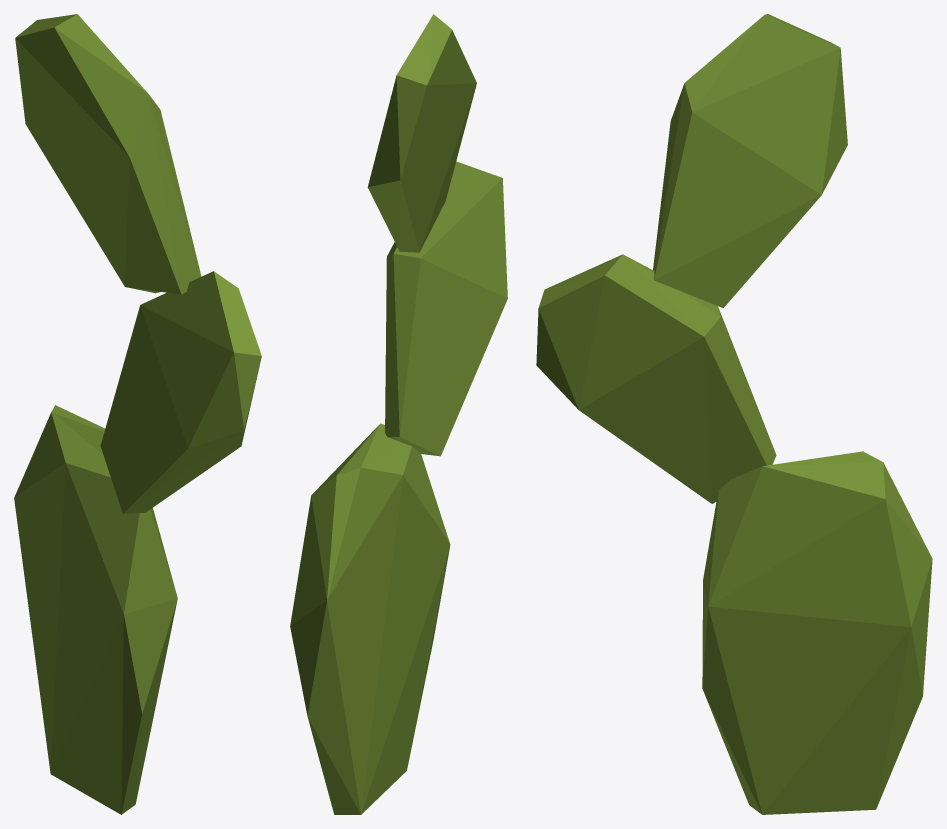
File: west_tree08.FBX
3 renders of one model, left to right at view 1: azimuth 30°, elevation 25°; view 2: azimuth 150°, elevation 25°; view 3: azimuth 270°, elevation 25°, orthographic. The views are drawn at different scales.
Visible parts, largest first — view 1: west_tree08; view 2: west_tree08; view 3: west_tree08.
Part boxes in pixels (x1,y1,x2,y2): west_tree08: [14, 14, 261, 814]; west_tree08: [290, 14, 507, 814]; west_tree08: [536, 14, 932, 814].
Bounding box in the file's own units: 79.8 × 568 × 264.
